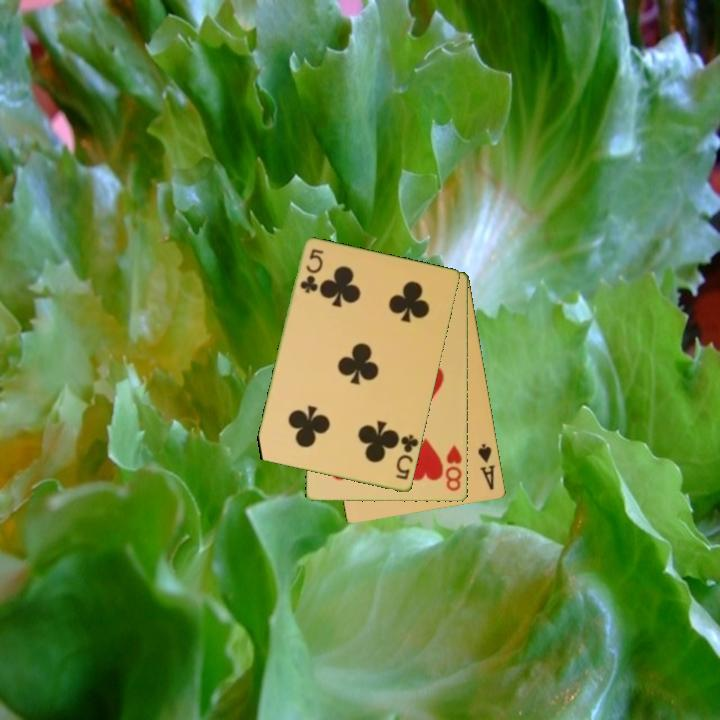5c: (297, 245, 327, 297), (393, 431, 421, 483)
8h: (442, 441, 465, 494)
As: (475, 440, 498, 493)
